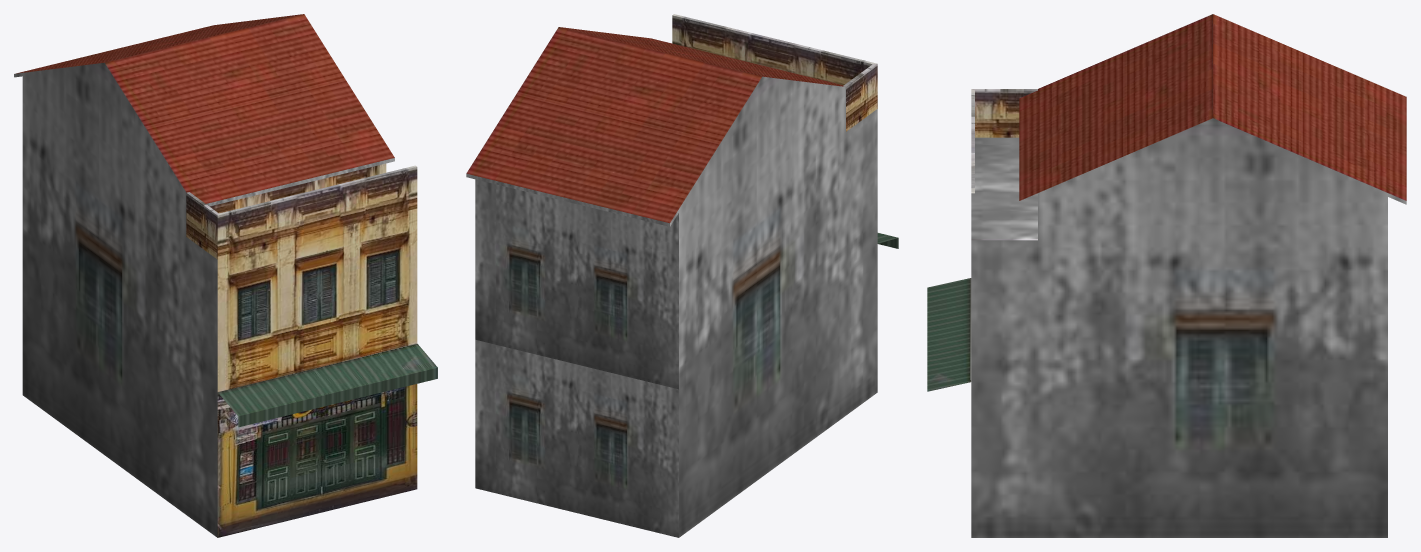
3 views of the same model, side by side, from view 1: azimuth 30°, elevation 25°; view 2: azimuth 150°, elevation 25°; view 3: azimuth 270°, elevation 25° (orthographic). The views are drawn at different scales.
Visible parts, largest first — view 1: HN983_Sin; view 2: HN983_Sin; view 3: HN983_Sin.
Part boxes in pixels (x1,y1,x2,y2): HN983_Sin: [14, 14, 437, 537]; HN983_Sin: [466, 14, 898, 537]; HN983_Sin: [927, 14, 1406, 537].
Bounding box in the file's own units: 4.73 × 8.89 × 9.2.
1 material, 1 textured.
